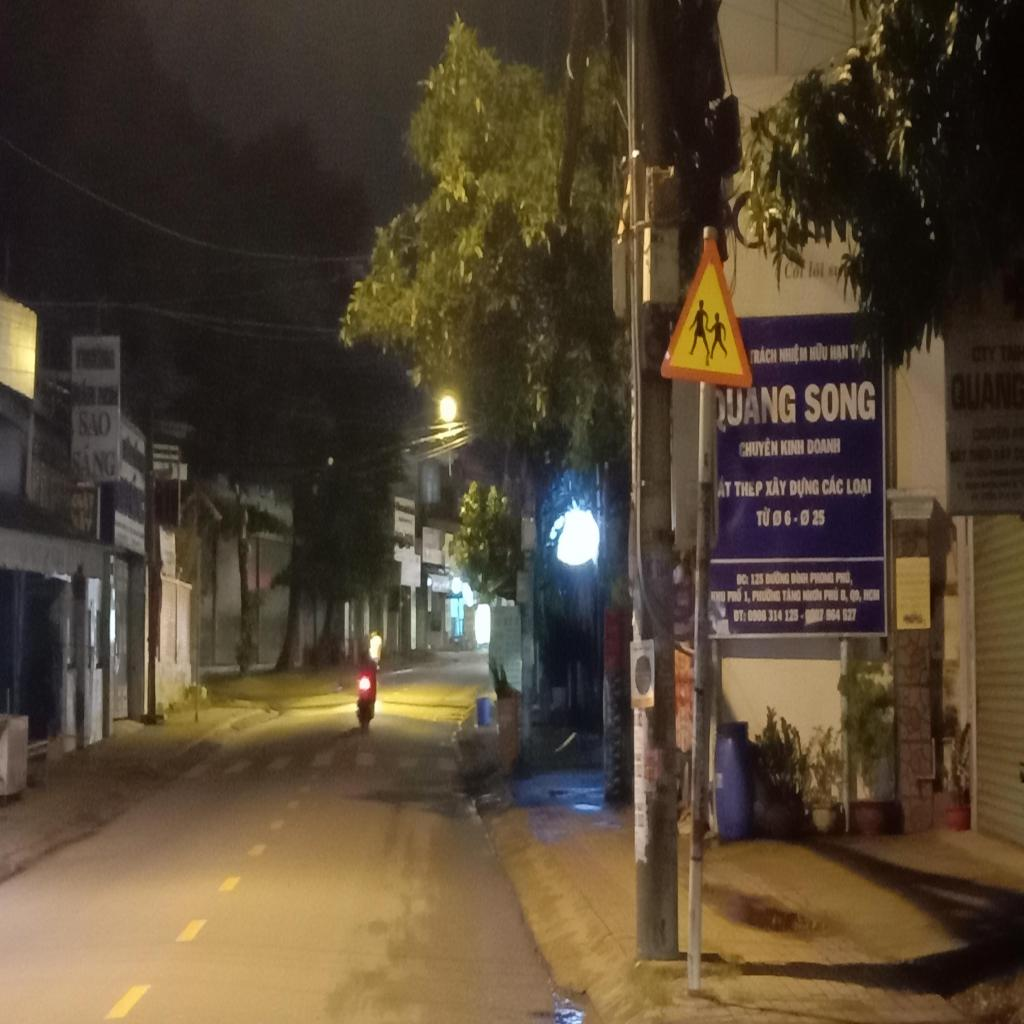chu_y_tre_em: (660, 232, 754, 389)
